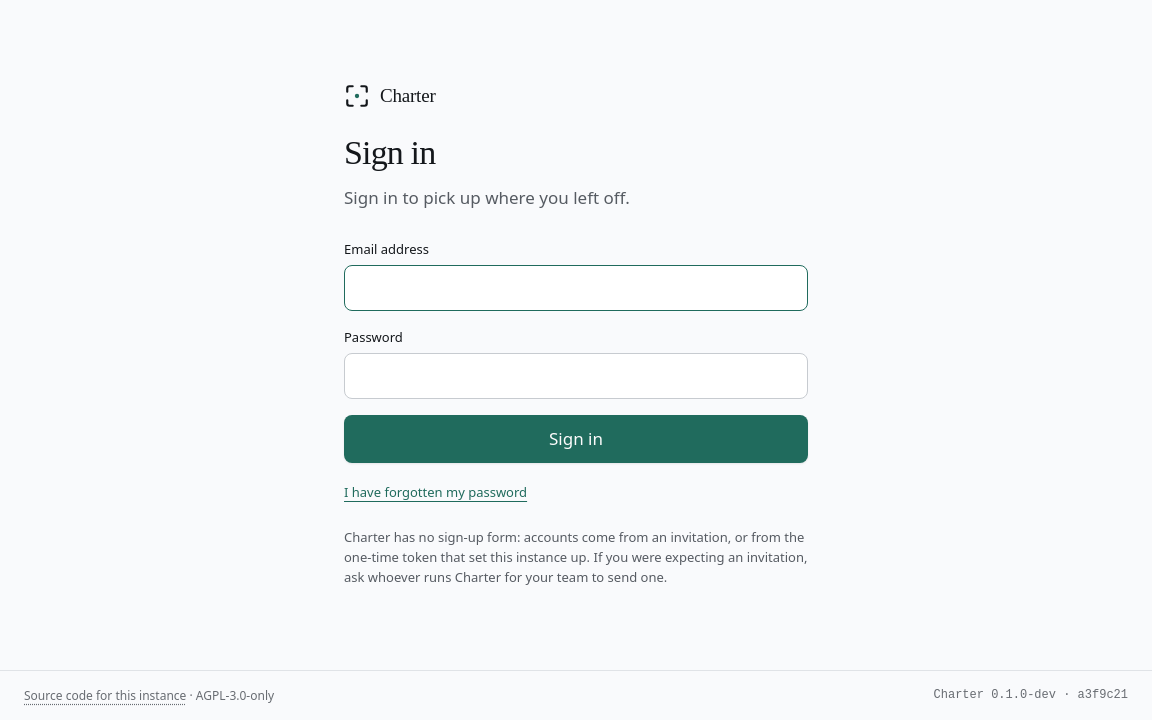
Test: sign in (§21) › turns the rate limiter into a sentence rather than a raw error
The width and height of the screenshot is (1152, 720).
Type "ana@northbeam.example" into the field labelled "Email address" at x=576, y=288, box [344,265,808,311]
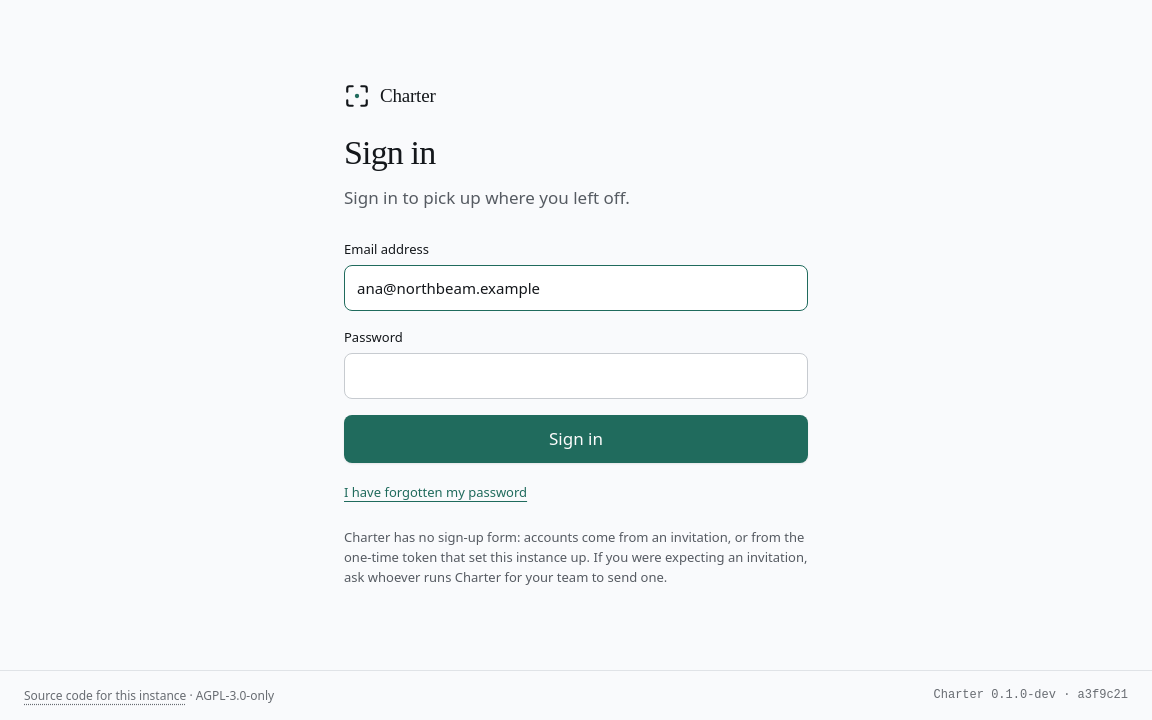
Type "wrong" into the password field labelled "Password" at x=576, y=376, box [344,353,808,399]
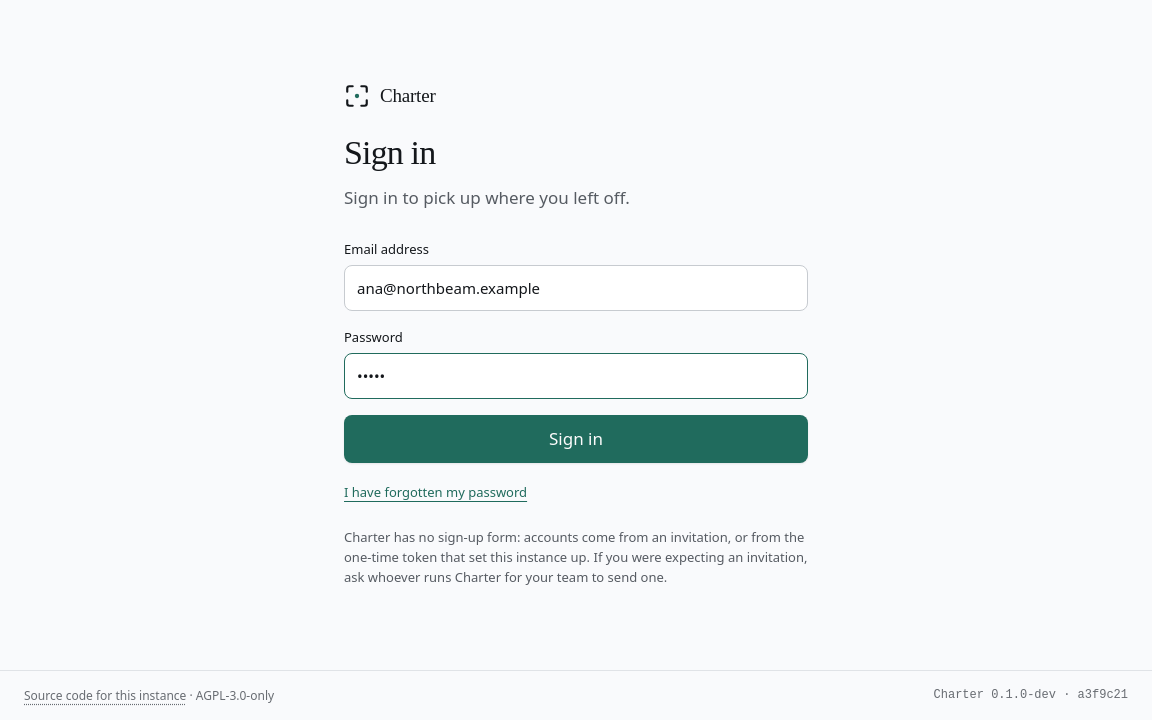
Click the button "Sign in" at x=576, y=439, box [344,415,808,463]
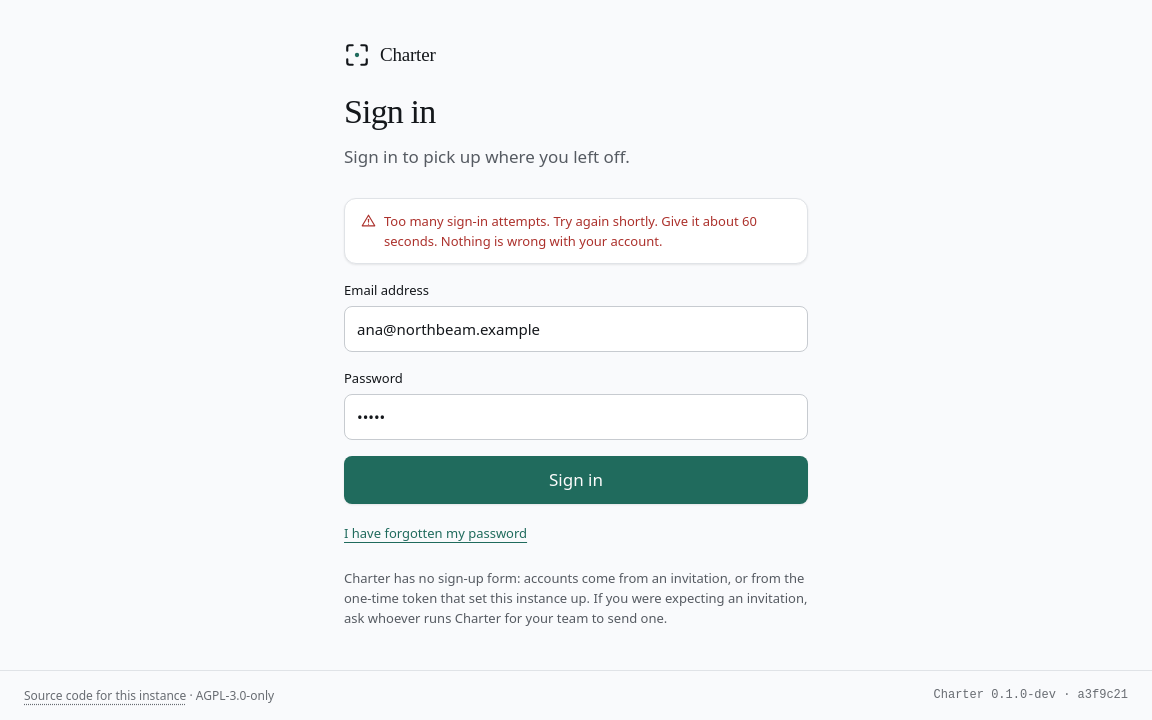
expect the message shows "Too many sign-in attempts. Try again shortly.": met, box [384,212,757,250]
expect the message shows "about 60 seconds": met, box [384,212,757,250]
expect the message shows "Nothing is wrong with your account": met, box [384,212,757,250]
